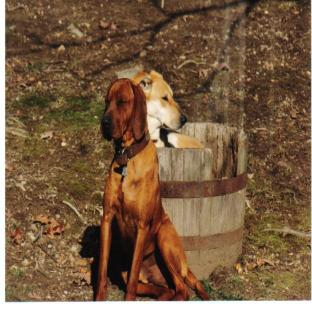Animal: (96, 70, 209, 300)
